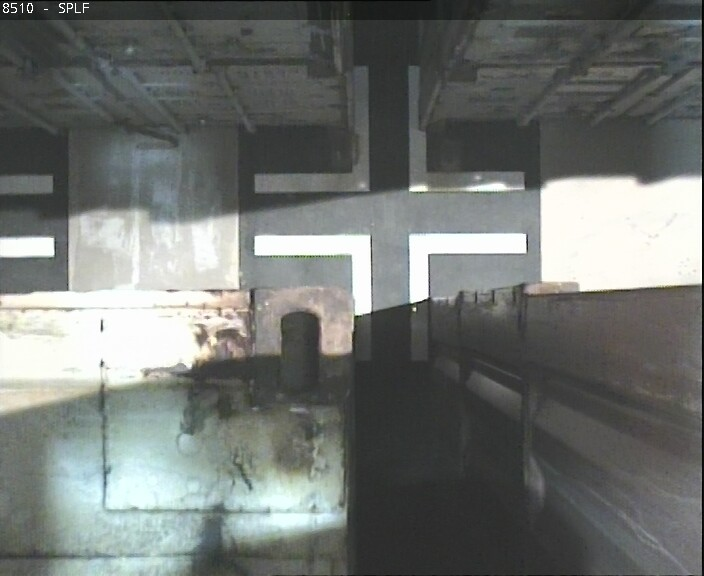groundmarker_1: (253, 65, 528, 195), (253, 233, 527, 363)
